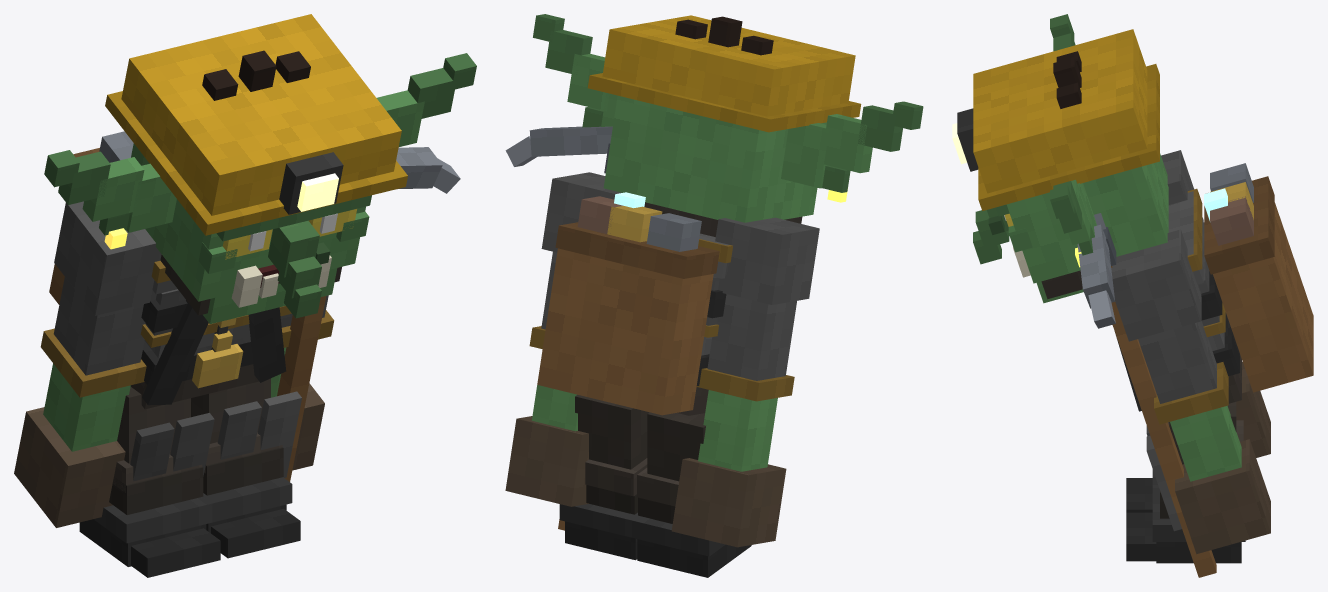
File: goblin_mineur_v2.glb
3 renders of one model, left to right at view 1: azimuth 30°, elevation 25°; view 2: azimuth 150°, elevation 25°; view 3: azimuth 270°, elevation 25°, orthographic. The views are drawn at different scales.
Parts seen in each view (by area): view 1: Head, ArmR, Torso, LegR, LegL, HandL, ArmL; view 2: Head, Torso, ArmR, ArmL, LegL, LegR, HandL; view 3: Head, ArmL, Torso, HandL, LegL, ArmR, LegR.
Boxes of the visible parts, x1,y1,x2,y2 form: Head: (44, 14, 476, 323); ArmR: (14, 201, 161, 527); Torso: (49, 131, 301, 481); LegR: (79, 387, 220, 577); LegL: (191, 378, 300, 558); HandL: (277, 147, 460, 481); ArmL: (271, 295, 334, 470); Head: (533, 14, 923, 236); Torso: (537, 192, 732, 415); ArmR: (671, 217, 819, 547); ArmL: (505, 172, 621, 506); LegL: (559, 394, 649, 560); LegR: (632, 412, 751, 577); HandL: (505, 126, 612, 530); Head: (952, 14, 1168, 303); ArmL: (1111, 229, 1270, 554); Torso: (1116, 163, 1313, 531); HandL: (1077, 213, 1216, 577); LegL: (1126, 402, 1245, 563); ArmR: (1161, 150, 1270, 457); LegR: (1126, 420, 1243, 512).
Size of the model in its own units: 1.12 by 1.33 by 0.9227.
46 materials, 46 textured.
